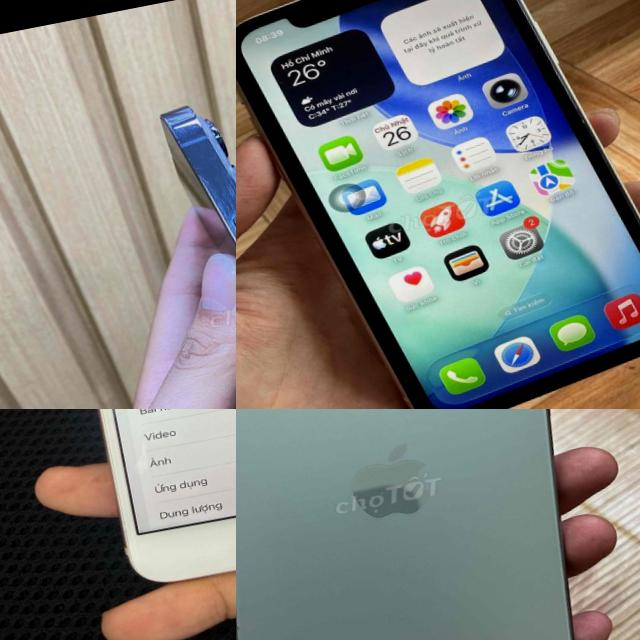gen_11: (236, 0, 640, 409)
gen_12_13: (147, 54, 236, 409)
gen_15: (236, 409, 620, 640)
gen_7_8: (27, 409, 236, 600)
